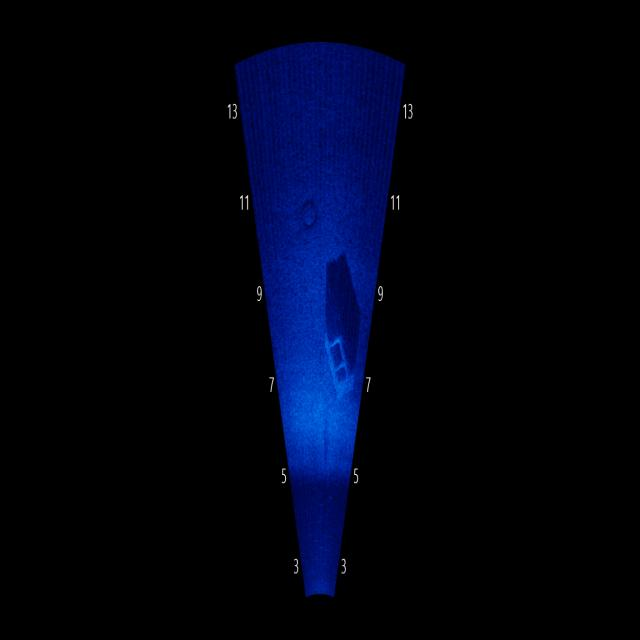square: (313, 316, 359, 414)
